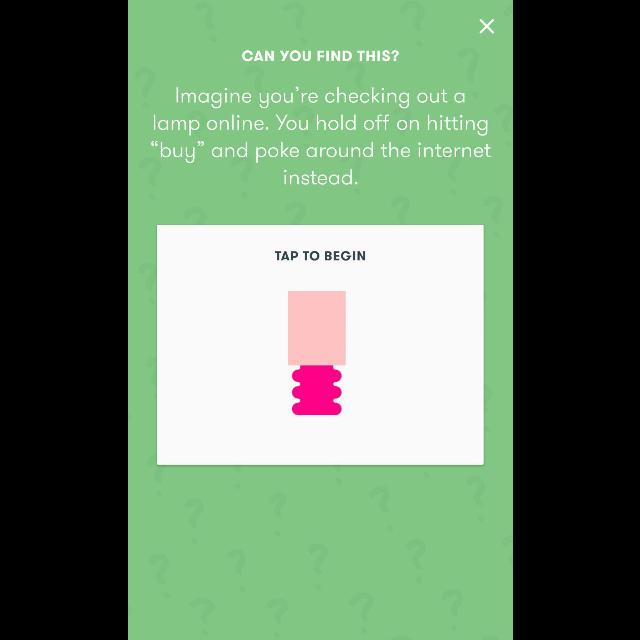backgroundimage: (128, 1, 512, 640)
icon: (478, 19, 494, 35)
image: (287, 291, 345, 415)
text: (150, 87, 490, 185), (242, 50, 398, 61), (275, 251, 365, 261)
